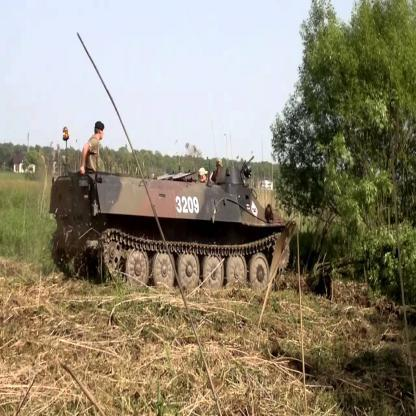MIL_IFV: (50, 148, 297, 295)
